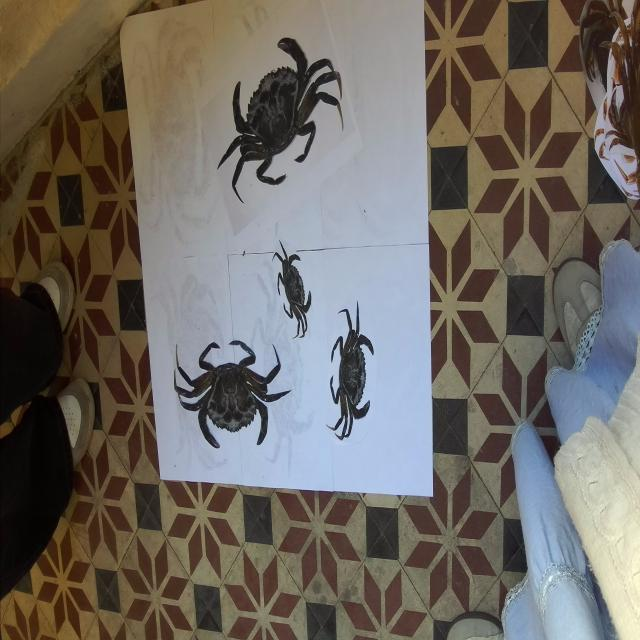European_Green_Crab: (200, 5, 353, 225), (173, 337, 293, 451), (325, 295, 377, 447), (266, 228, 320, 346)
